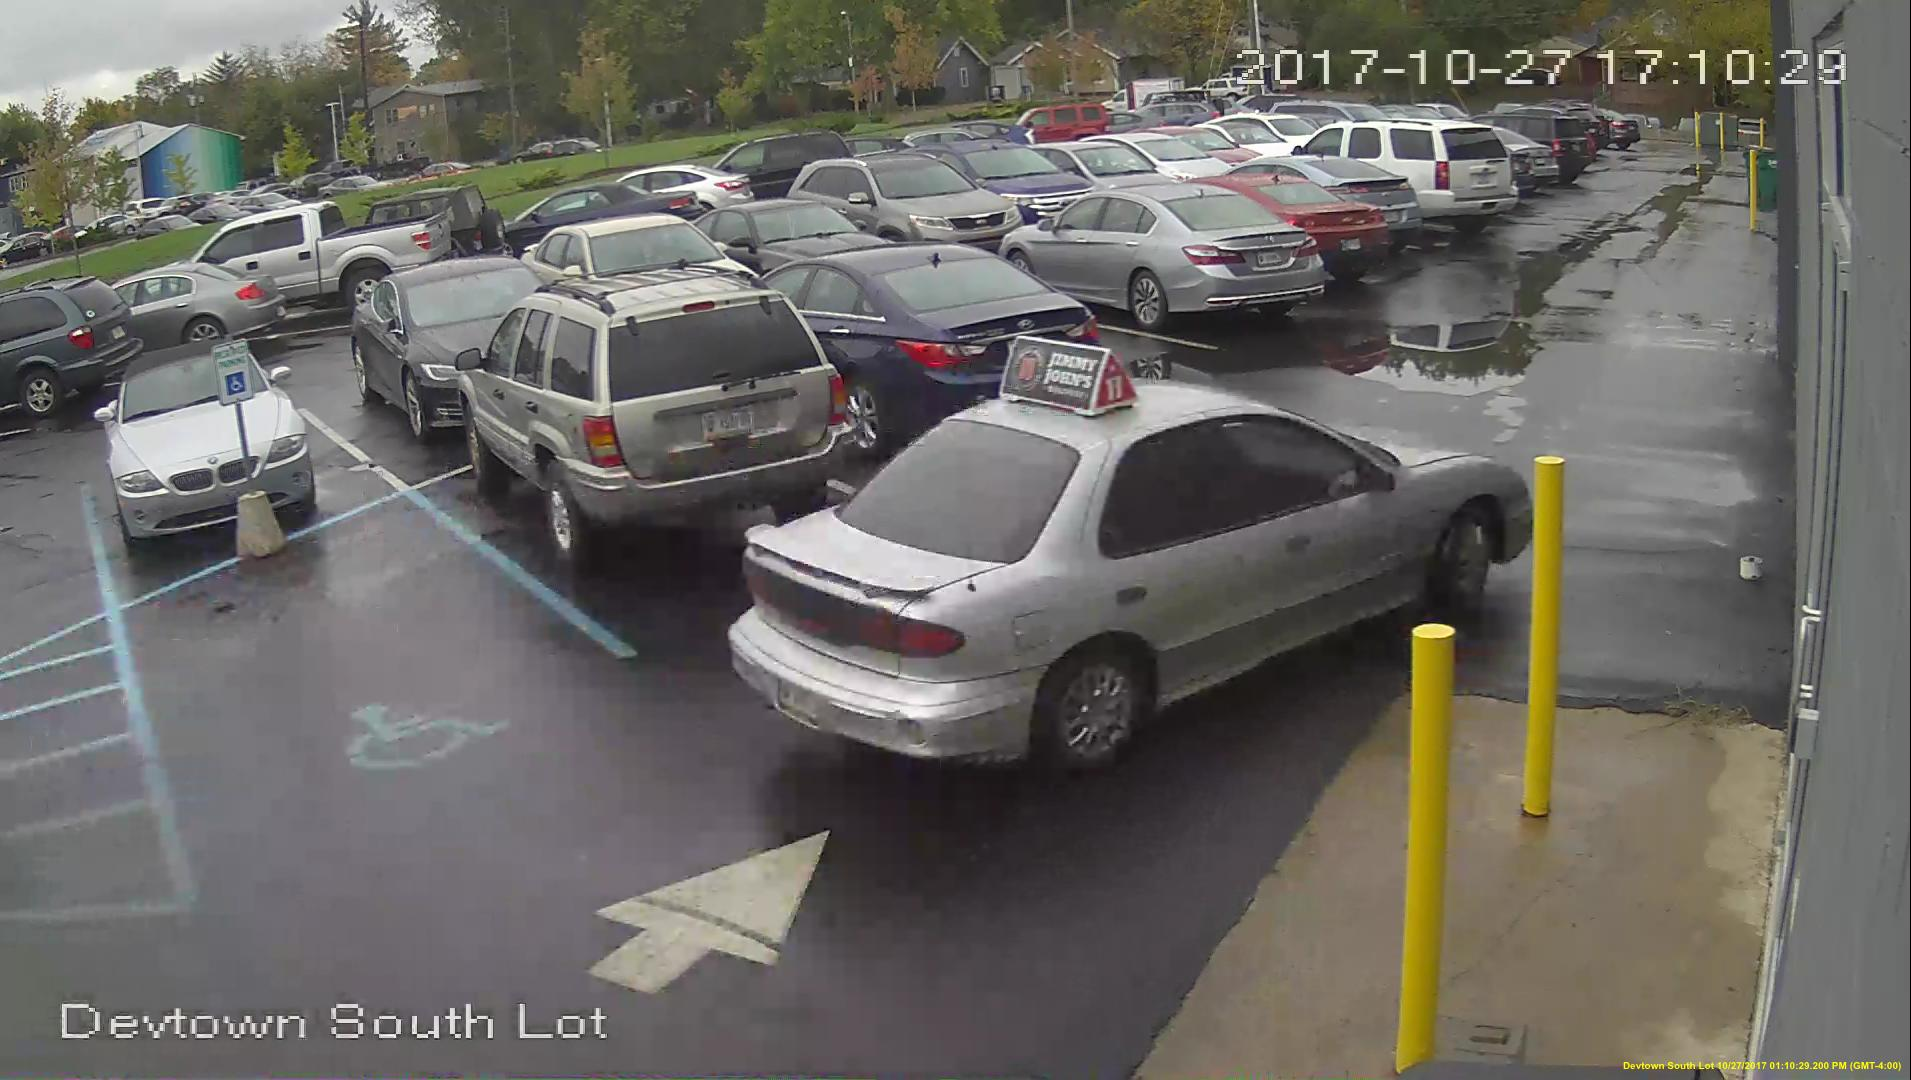jimmy_johns: (1001, 331, 1141, 416)
